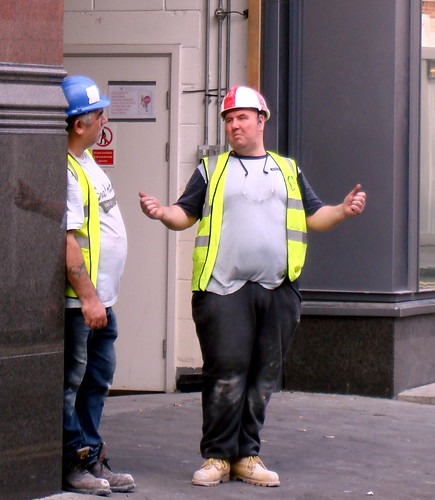person hardhat: (144, 82, 370, 489), (55, 75, 152, 499)
